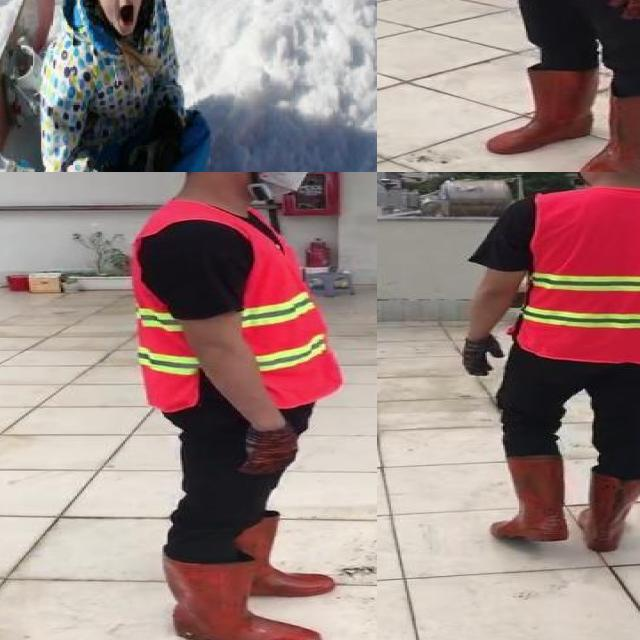boots: (160, 552, 320, 640), (485, 67, 597, 154), (248, 517, 333, 597), (491, 455, 568, 543), (579, 469, 640, 554), (575, 93, 640, 172)
face_mask: (224, 172, 320, 201)
face_nomask: (100, 0, 149, 26)
hand_glove: (237, 426, 301, 474), (462, 338, 505, 377), (605, 0, 640, 18)
person: (109, 172, 377, 640), (447, 172, 640, 570), (0, 0, 219, 172), (470, 0, 640, 172)
vest: (130, 198, 340, 411), (518, 191, 640, 364)
